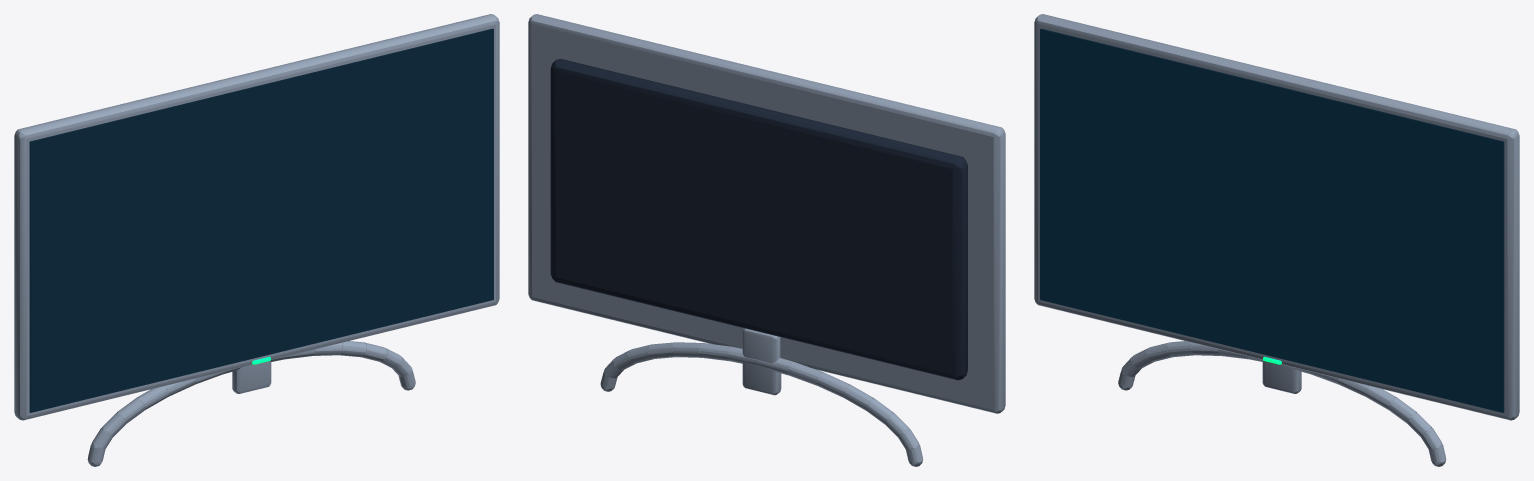
3 renders of one model, left to right at view 1: azimuth 30°, elevation 25°; view 2: azimuth 150°, elevation 25°; view 3: azimuth 330°, elevation 25°, orthographic.
Parts seen in each view (by area): view 1: screen, body; view 2: body; view 3: screen, body.
Part boxes in pixels (left/top/right/bottom): screen: left=29, top=28, right=493, bottom=412; body: left=14, top=14, right=499, bottom=466; body: left=528, top=14, right=1005, bottom=466; screen: left=1040, top=28, right=1504, bottom=412; body: left=1034, top=14, right=1519, bottom=466.
Size of the model in its own units: 1.4 by 1 by 0.0937.
